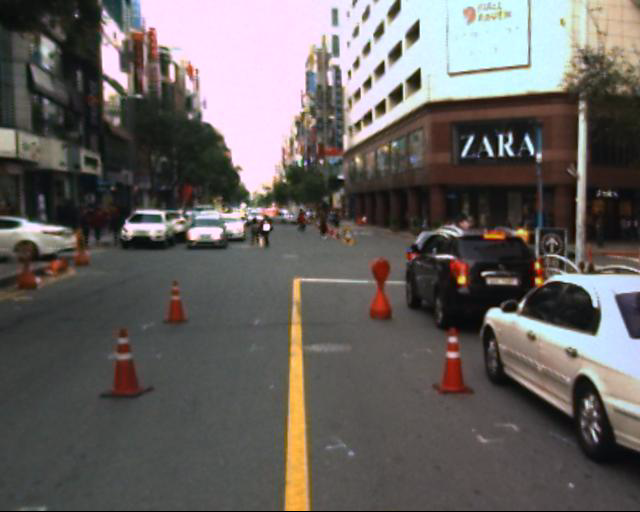person: (76, 198, 104, 252), (86, 197, 115, 247), (103, 198, 131, 249), (310, 202, 336, 244), (255, 208, 276, 253), (245, 211, 265, 252)
